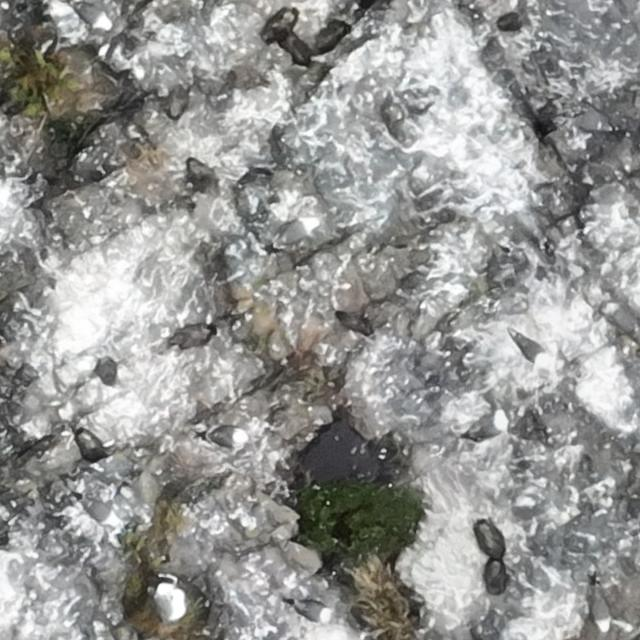umineko: (266, 218, 320, 252), (156, 580, 184, 620), (83, 498, 120, 527), (75, 3, 114, 28), (515, 335, 543, 362), (476, 411, 505, 437), (206, 428, 245, 447), (593, 595, 610, 631), (297, 603, 329, 622)
